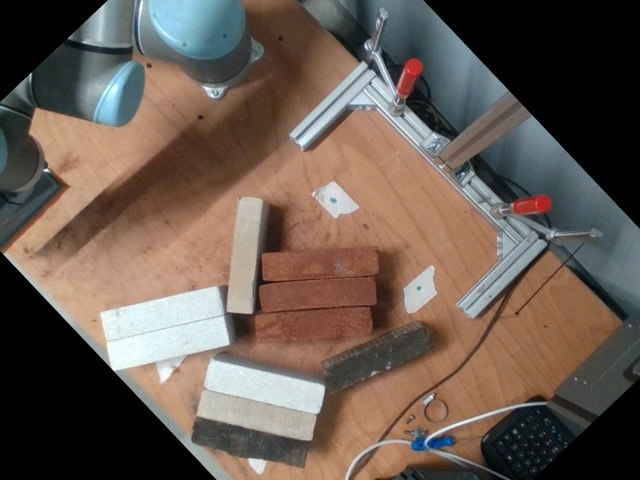brick-side: (325, 327, 435, 392), (207, 362, 321, 411), (199, 391, 313, 440), (110, 318, 224, 367), (104, 290, 218, 338), (190, 419, 304, 465), (227, 198, 262, 311), (261, 276, 374, 310), (263, 247, 376, 280), (256, 308, 369, 341)
